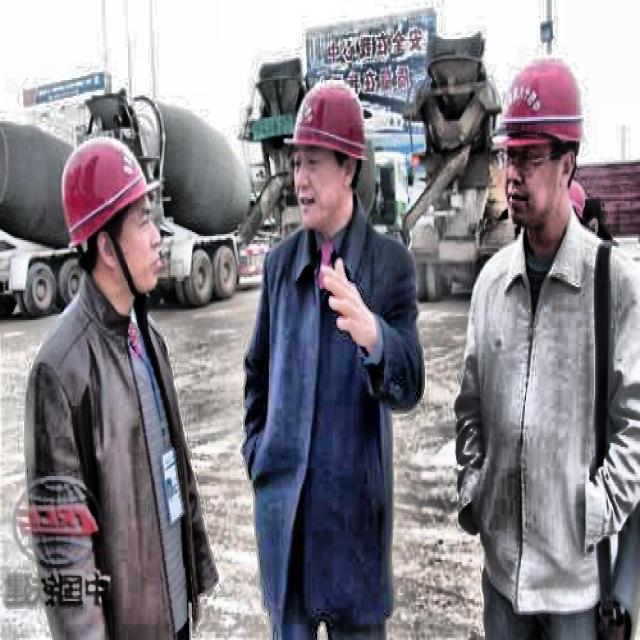helmet: (62, 126, 164, 306), (490, 58, 590, 238), (284, 76, 368, 228)
